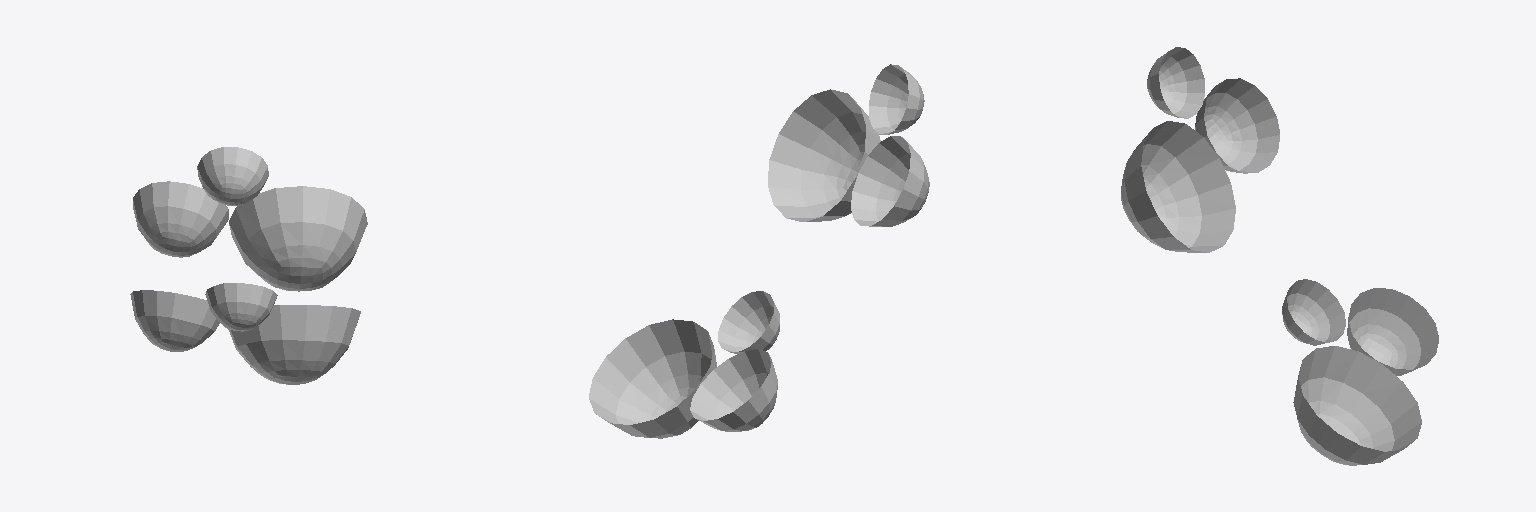
The model's file is snow_hill.obj.
The picture shows the model from 3 angles: view 1: azimuth 30°, elevation 25°; view 2: azimuth 150°, elevation 25°; view 3: azimuth 270°, elevation 25°; orthographic projection.
Visible parts, largest first — view 1: hill.009_hill_Cube.001, hill.008_hill_Cube.001; view 2: hill.008_hill_Cube.001, hill.009_hill_Cube.001; view 3: hill.008_hill_Cube.001, hill.009_hill_Cube.001.
Boxes of the visible parts, x1=… form: hill.009_hill_Cube.001: x1=133, y1=147, x2=367, y2=291; hill.008_hill_Cube.001: x1=130, y1=283, x2=360, y2=384; hill.008_hill_Cube.001: x1=589, y1=291, x2=779, y2=438; hill.009_hill_Cube.001: x1=768, y1=64, x2=929, y2=226; hill.008_hill_Cube.001: x1=1282, y1=279, x2=1438, y2=465; hill.009_hill_Cube.001: x1=1121, y1=47, x2=1279, y2=252.
Size of the model in its own units: 0.3234 by 0.3864 by 0.3324.